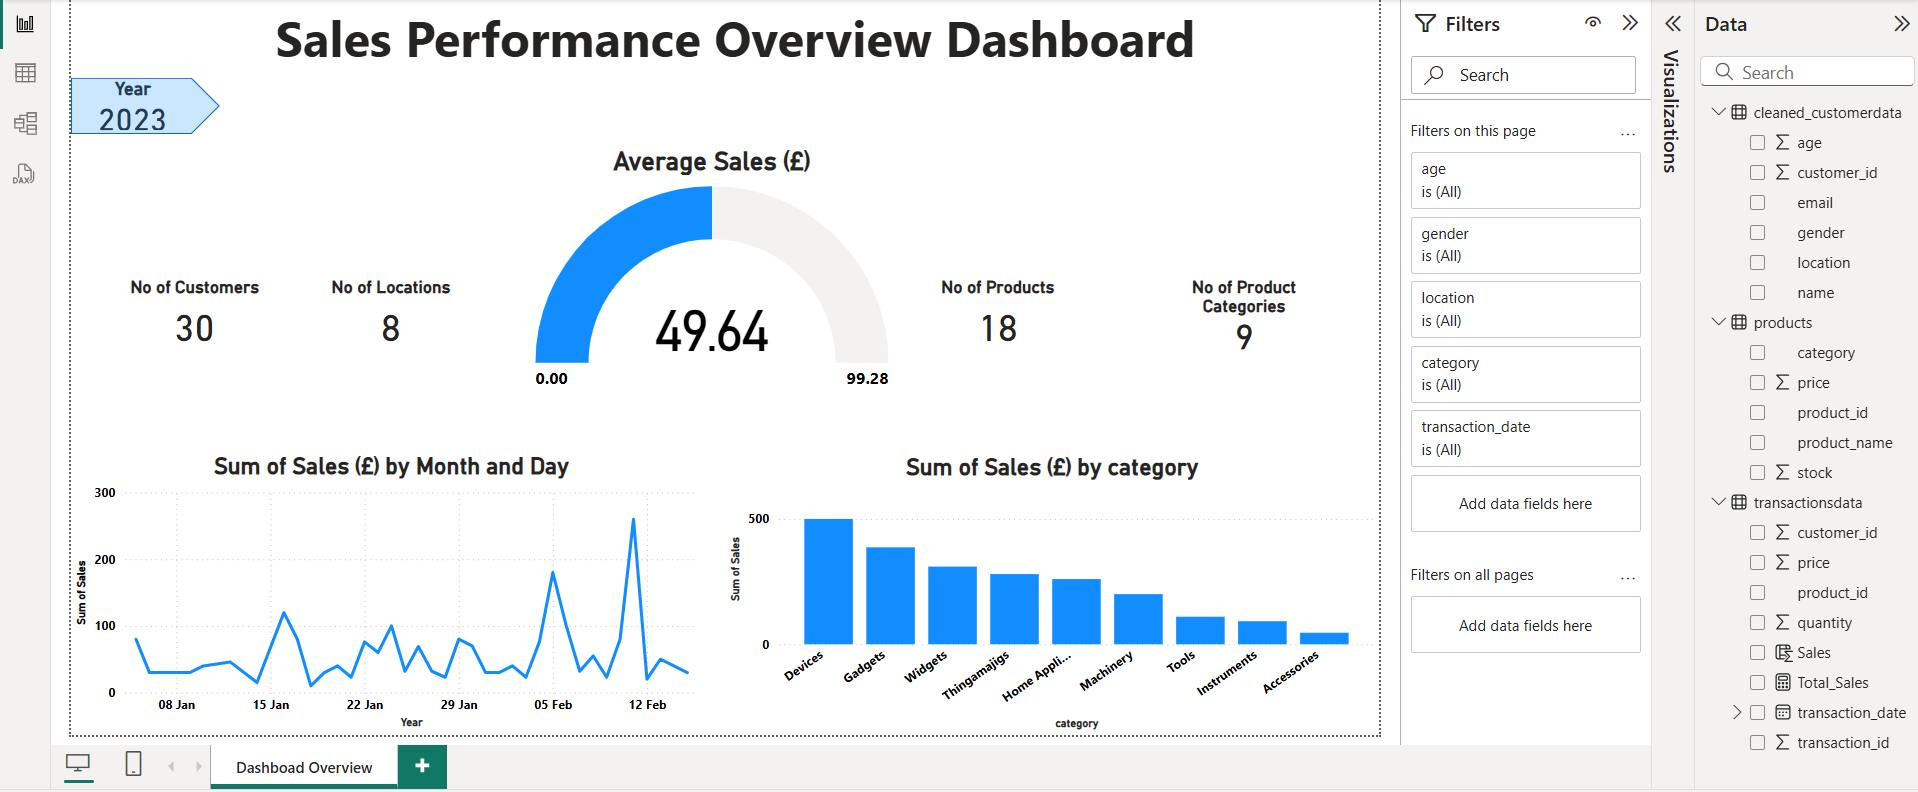

This screenshot's page, from the dashboard's own definition file:
{"tool":"powerbi","page":{"name":"Dashboad Overview","canvas":[1280,720],"ordinal":0},"visuals":[{"type":"lineChart","title":"Sum of Sales (£) by Month and Day","fields":{"Y":["Sum(transactionsdata.Sales)"],"Category":["transactionsdata.transaction_date.Variation.Date Hierarchy.Year","transactionsdata.transaction_date.Variation.Date Hierarchy.Month","transactionsdata.transaction_date.Variation.Date Hierarchy.Day"]},"box":[0,443.2,627.1,275.8],"z":0},{"type":"columnChart","title":"Sum of Sales (£) by category","fields":{"Category":["products.category"],"Y":["Sum(transactionsdata.Sales)"]},"box":[639.5,443.9,640.8,276.4],"z":1000},{"type":"gauge","title":"Average Sales (£)","fields":{"Y":["Avg(transactionsdata.Sales)"]},"box":[443.9,144.3,365.6,254.3],"z":2000},{"type":"card","title":"No of Customers","fields":{"Values":["Count(cleaned_customerdata.name)"]},"box":[23.2,271.5,195.7,75.8],"z":3000},{"type":"card","title":"No of Locations","fields":{"Values":["Count(cleaned_customerdata.location)"]},"box":[215.2,271.5,195.7,75.8],"z":4000},{"type":"card","title":"No of Product Categories","fields":{"Values":["Count(products.category)"]},"box":[1050.4,271.5,194.4,75.8],"z":5000},{"type":"card","title":"No of Products","fields":{"Values":["Count(products.product_id)"]},"box":[809.5,271.5,194.4,75.8],"z":6000},{"type":"card","title":"Year","fields":{"Values":["Max(transactionsdata.transaction_date.Variation.Date Hierarchy.Year)"]},"box":[0,77,121.1,56.3],"z":7000},{"type":"shape","box":[0,77,145.5,55],"z":8000},{"type":"textbox","box":[73.4,0,1153.1,77],"z":9000}]}

Visuals, with their boxes on the page's 1280x720 design canvas (x1, y1, x2, y2). These are canvas units, not pixel positions in the 1918x792 screenshot, which may show the page scaled, cropped or inside an application window:
"Sum of Sales (£) by Month and Day" lineChart: (0, 443, 627, 719)
"Sum of Sales (£) by category" columnChart: (640, 444, 1280, 720)
"Average Sales (£)" gauge: (444, 144, 810, 399)
"No of Customers" card: (23, 272, 219, 347)
"No of Locations" card: (215, 272, 411, 347)
"No of Product Categories" card: (1050, 272, 1245, 347)
"No of Products" card: (810, 272, 1004, 347)
"Year" card: (0, 77, 121, 133)
shape: (0, 77, 146, 132)
textbox: (73, 0, 1226, 77)
